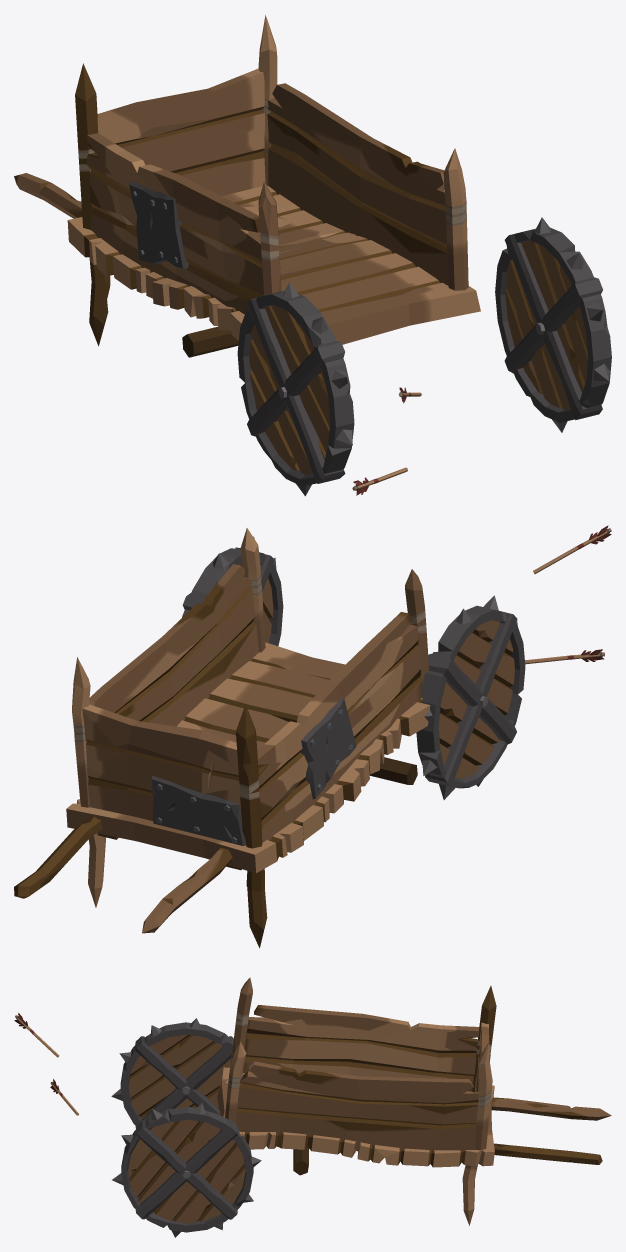
File: bog_cart.gltf
3 views of the same model, one above another, from view 1: azimuth 30°, elevation 25°; view 2: azimuth 150°, elevation 25°; view 3: azimuth 270°, elevation 25° (orthographic). The views are drawn at different scales.
Visible parts, largest first — view 1: bog_cart; view 2: bog_cart; view 3: bog_cart.
Boxes of the visible parts, box(x1,y1,x2,y2) form: bog_cart: box(14, 15, 611, 496); bog_cart: box(14, 525, 611, 948); bog_cart: box(14, 977, 611, 1237).
Size of the model in its own units: 1.96 by 1.69 by 4.77.
1 material, 1 textured.
